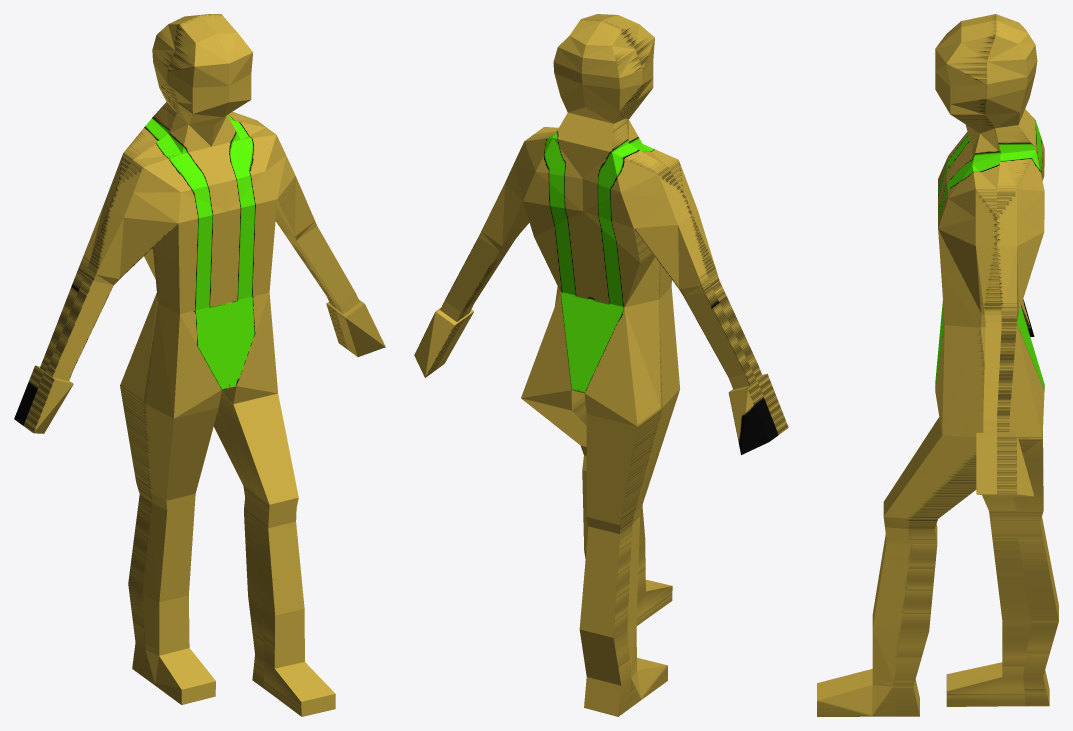
3 views of the same model, side by side, from view 1: azimuth 30°, elevation 25°; view 2: azimuth 150°, elevation 25°; view 3: azimuth 270°, elevation 25° (orthographic). The views are drawn at different scales.
Visible parts, largest first — view 1: Borat; view 2: Borat; view 3: Borat.
Boxes of the visible parts, bbox=[...] form: Borat: bbox=[14, 14, 385, 716]; Borat: bbox=[414, 14, 788, 716]; Borat: bbox=[817, 14, 1058, 716].
Bounding box in the file's own units: 1.79 × 3.21 × 1.02.
